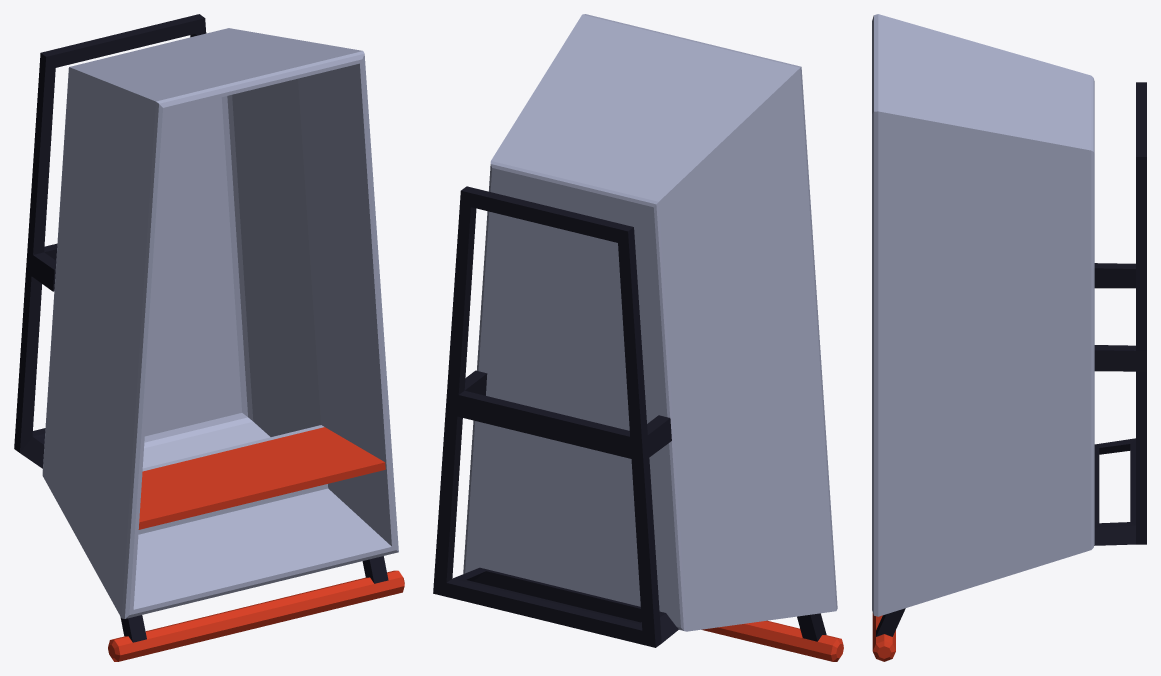
Rendered from cart.glb.
3 renders of one model, left to right at view 1: azimuth 30°, elevation 25°; view 2: azimuth 150°, elevation 25°; view 3: azimuth 270°, elevation 25°, orthographic. The views are drawn at different scales.
Visible parts, largest first — view 1: Cart; view 2: Cart; view 3: Cart.
Part boxes in pixels (<box>): Cart: <box>14,14,404,661</box>; Cart: <box>433,14,843,661</box>; Cart: <box>872,14,1146,661</box>.
Size of what is drawn, in the model's own units: 1.37 by 2.51 by 1.17.
